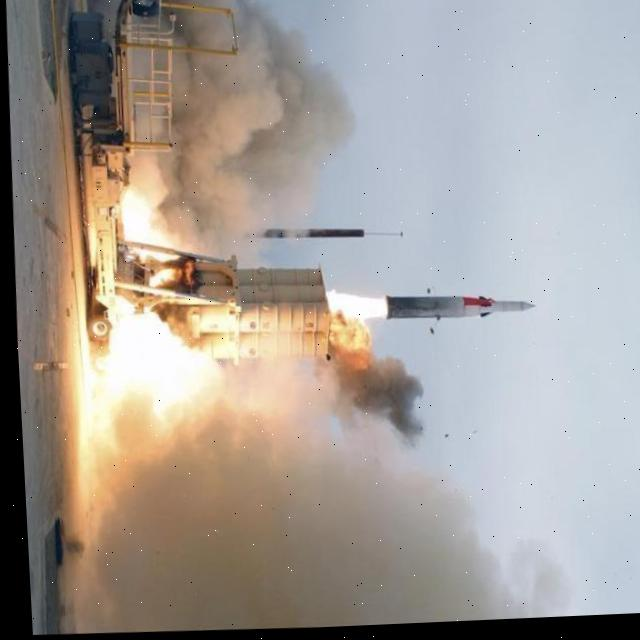missile: (377, 288, 531, 327)
